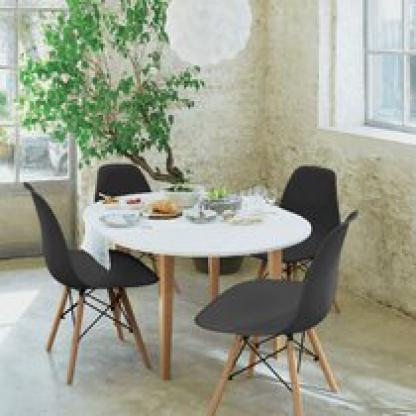chair: (191, 213, 368, 416), (14, 172, 161, 379), (250, 165, 345, 312), (94, 157, 177, 299)
light: (160, 0, 264, 68)
table: (78, 187, 315, 381)
